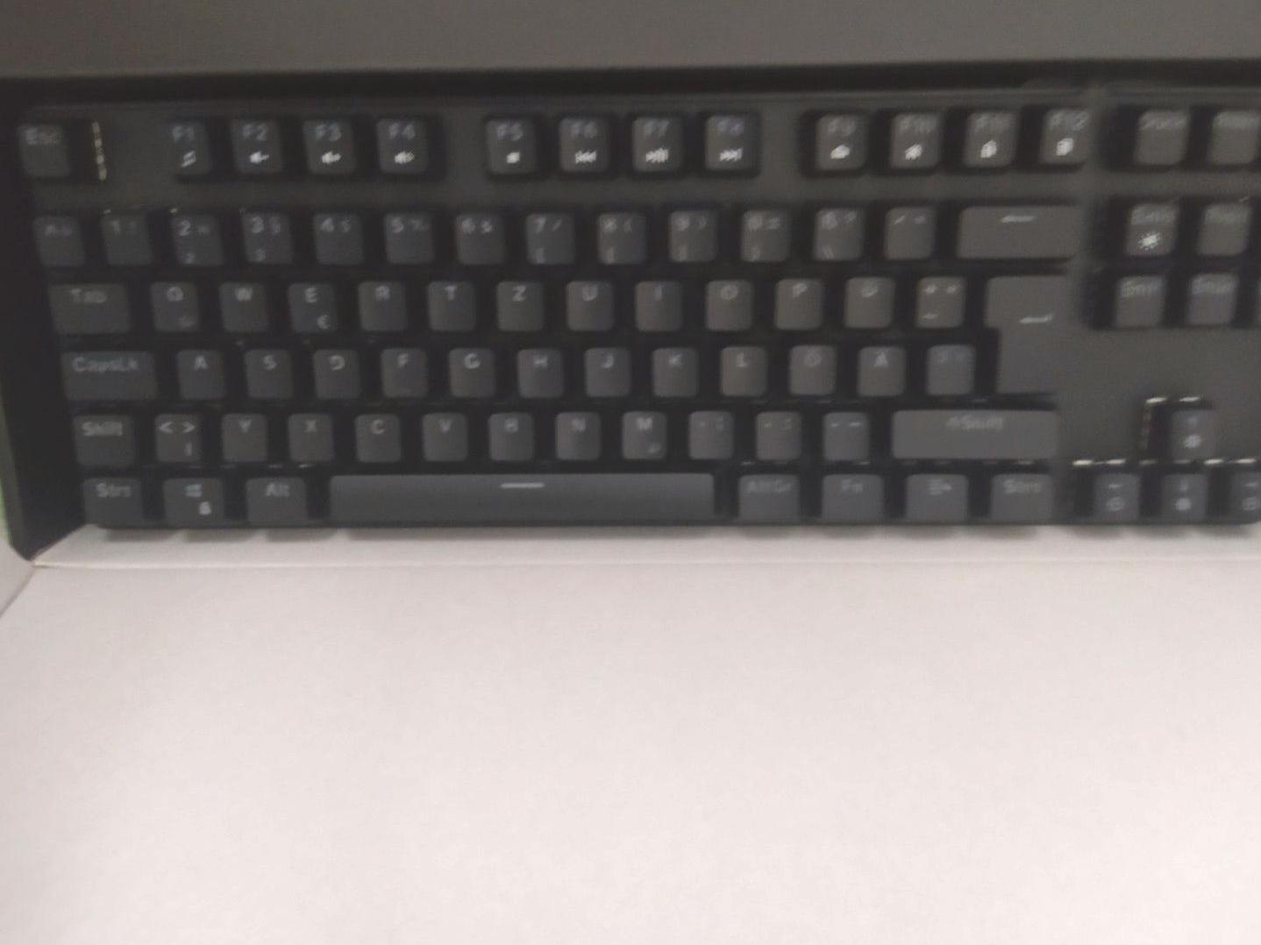0: (738, 205, 792, 261)
1: (99, 208, 153, 265)
2: (169, 207, 223, 265)
3: (239, 205, 294, 263)
4: (310, 208, 365, 263)
5: (381, 209, 435, 264)
6: (452, 208, 506, 263)
7: (523, 208, 575, 263)
8: (593, 208, 647, 264)
9: (665, 205, 718, 262)
a: (174, 344, 224, 397)
accent: (880, 202, 934, 259)
ae: (854, 341, 905, 394)
alt-left: (242, 472, 308, 522)
altgr-right: (735, 470, 800, 518)
b: (487, 407, 535, 458)
c: (352, 408, 401, 459)
caret: (32, 210, 84, 266)
comma: (687, 407, 734, 458)
d: (311, 343, 360, 396)
del: (953, 201, 1078, 257)
e: (286, 276, 337, 330)
enter: (985, 271, 1066, 392)
f: (379, 343, 426, 395)
g: (446, 342, 495, 394)
h: (515, 343, 563, 394)
hash: (923, 340, 972, 393)
i: (631, 276, 682, 329)
j: (581, 342, 631, 394)
k: (649, 343, 699, 394)
keyboard: (1, 75, 1261, 551)
l: (718, 341, 767, 394)
less: (151, 408, 199, 461)
m: (619, 406, 667, 457)
minus: (819, 407, 868, 459)
n: (553, 407, 602, 457)
o: (702, 274, 753, 329)
oe: (787, 340, 836, 393)
p: (772, 274, 823, 328)
plus: (912, 271, 965, 327)
point: (752, 407, 801, 458)
q: (147, 275, 199, 329)
r: (355, 275, 408, 329)
s: (243, 343, 293, 396)
shift-left: (70, 410, 134, 466)
shift-lock: (59, 346, 156, 401)
shift-right: (887, 404, 1055, 457)
space: (323, 468, 717, 522)
ss: (814, 204, 867, 260)
strg-left: (80, 473, 143, 523)
strg-right: (989, 473, 1060, 519)
t: (425, 276, 476, 329)
tab: (47, 279, 129, 332)
u: (563, 275, 614, 329)
ue: (841, 272, 892, 327)
v: (419, 407, 467, 458)
w: (218, 275, 270, 330)
x: (286, 409, 333, 458)
y: (218, 409, 267, 460)
z: (493, 275, 544, 329)
